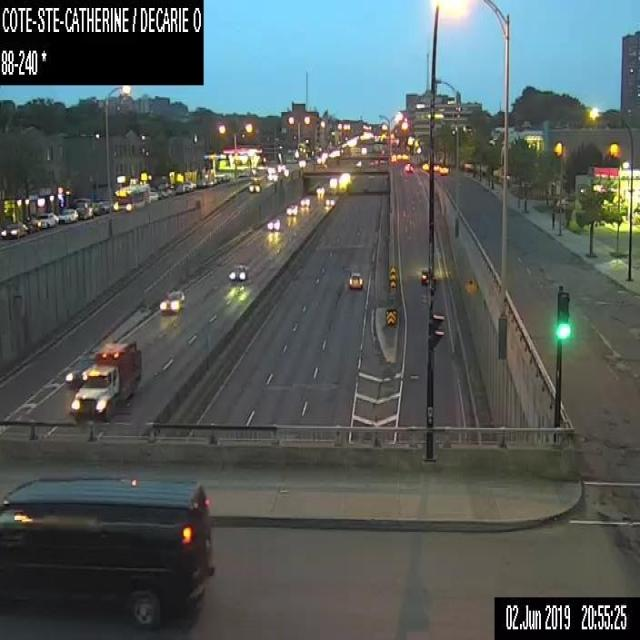bus: (113, 183, 149, 211)
vehicle: (0, 475, 215, 629), (70, 339, 142, 419), (65, 358, 93, 387), (159, 290, 184, 314), (1, 220, 27, 240), (57, 208, 78, 223), (347, 269, 363, 288), (420, 269, 436, 287), (228, 264, 246, 280), (38, 212, 55, 226), (247, 177, 262, 191), (266, 217, 281, 230), (285, 203, 297, 214), (439, 162, 449, 175), (299, 196, 310, 206), (148, 191, 158, 202), (266, 172, 278, 181), (315, 184, 325, 194), (182, 180, 192, 190), (325, 196, 334, 206), (404, 162, 413, 171), (422, 162, 428, 169)
